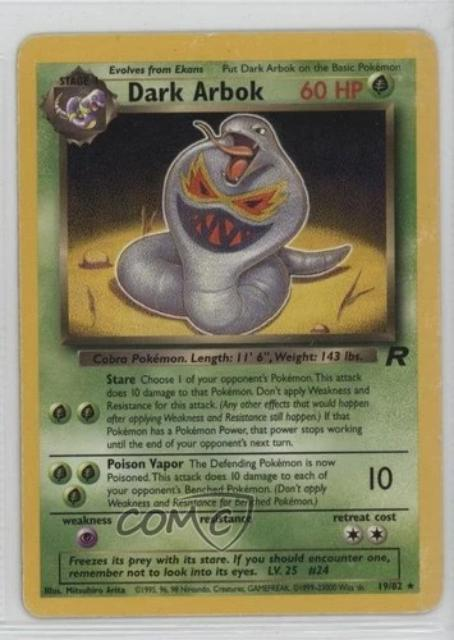Card: (9, 25, 449, 623)
Name: (121, 77, 275, 105)
